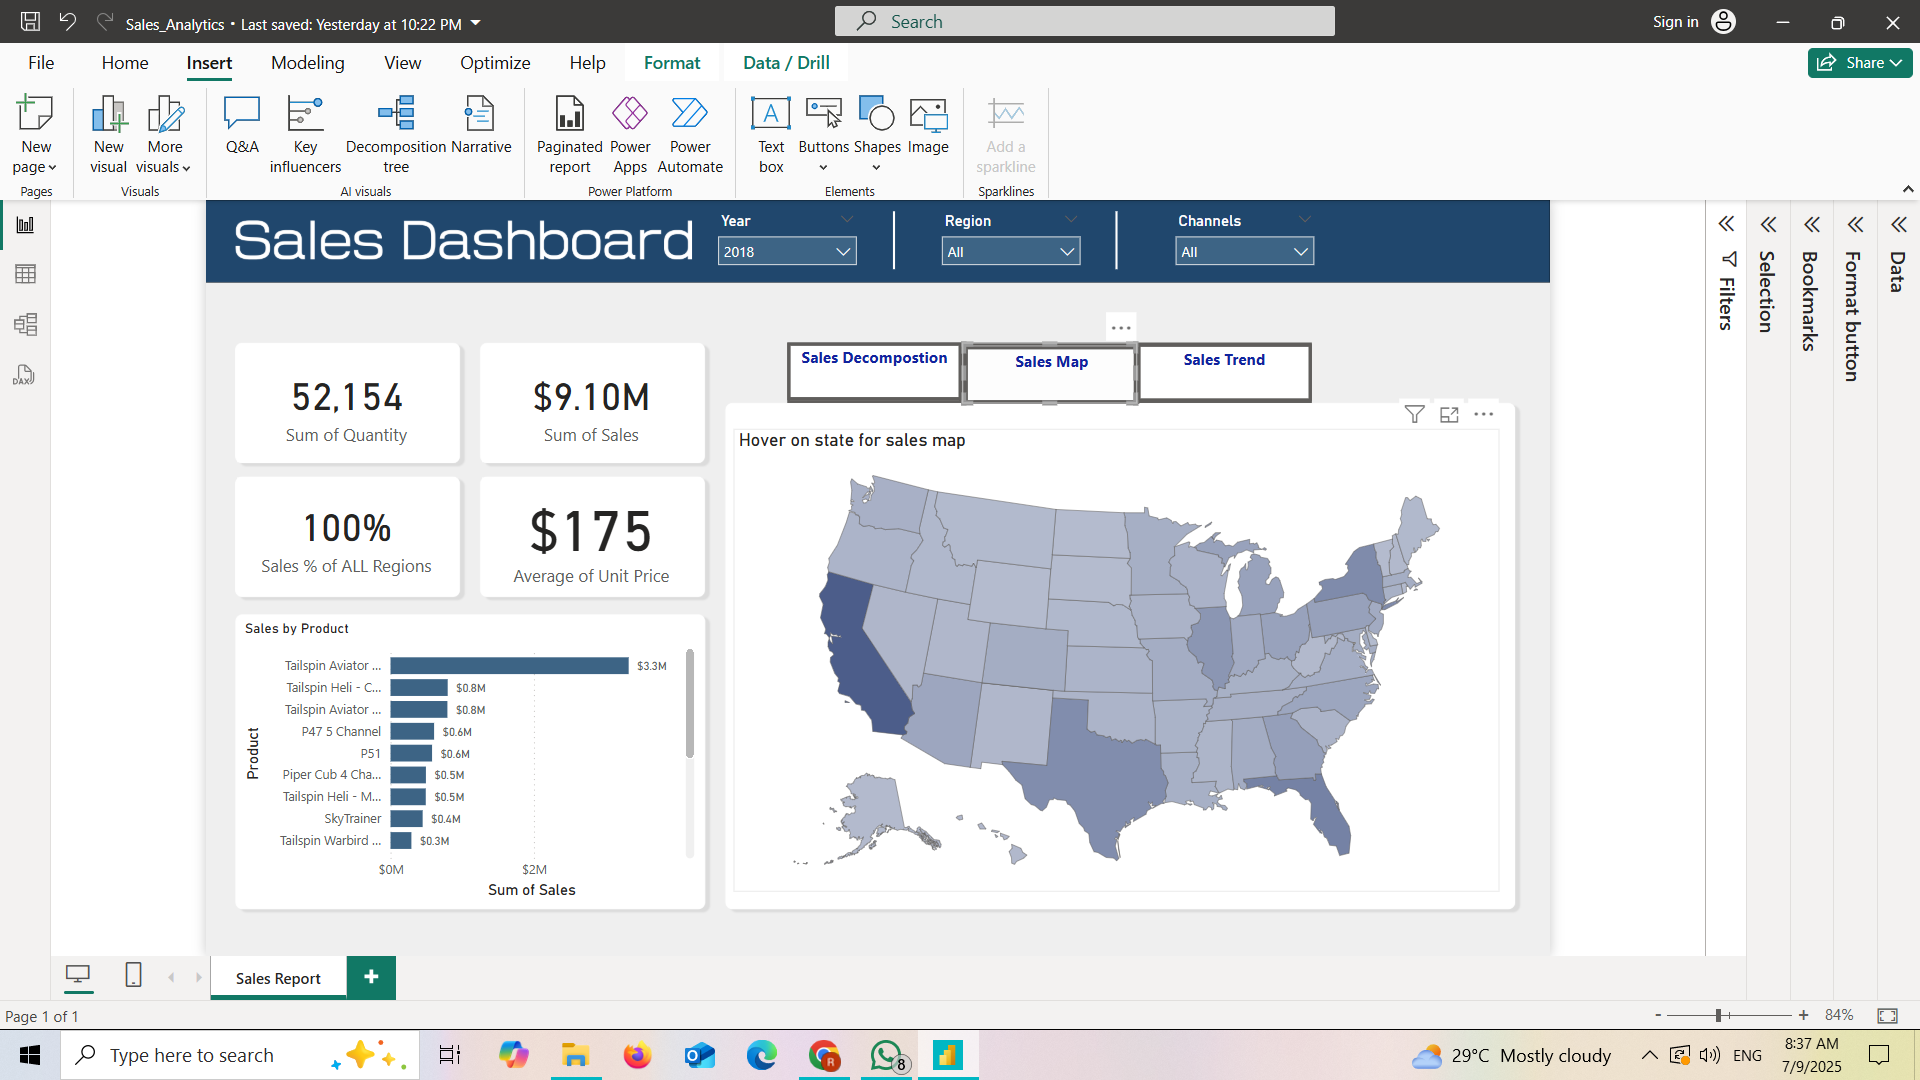

What the dashboard file says about the page in this screenshot:
{"tool":"powerbi","page":{"name":"Sales Report","canvas":[1280,720],"ordinal":0},"visuals":[{"type":"card","title":"Card Quantity","fields":{"Values":["Sum(Sales.Quantity)"]},"box":[29.5,138.7,208.1,110.5],"z":0},{"type":"card","title":"Card region","fields":{"Values":["Sales.Sales % of ALL Regions"]},"box":[29.5,264.6,208.1,110.5],"z":1000},{"type":"card","title":" Card sales","fields":{"Values":["Sum(Sales.Sales)"]},"box":[263.4,138.7,208.1,110.5],"z":2000},{"type":"card","title":"Card Unit price","fields":{"Values":["Avg(Sales.Unit Price)"]},"box":[263.4,264.6,208.1,110.5],"z":3000},{"type":"barChart","title":"Sales by Product","fields":{"Category":["Product.Product"],"Y":["Sum(Sales.Sales)"]},"box":[32,400,438,270],"z":4000},{"type":"slicer","fields":{"Values":["Date.Year"]},"box":[477.8,5.6,152,61],"z":5000},{"type":"slicer","fields":{"Values":["Region.Region"]},"box":[690,5.6,152.2,61.1],"z":6000},{"type":"slicer","fields":{"Values":["Product.Channels"]},"box":[913.3,5.6,152.2,61.1],"z":7000},{"type":"shape","box":[620,11.1,70,55.6],"z":8000},{"type":"shape","box":[832.2,11.1,70,55.6],"z":9000},{"type":"actionButton","title":"btn active:Decomposition","box":[553.8,135.9,166.3,54.9],"z":10000},{"type":"actionButton","title":"btn active:Trend","box":[886.4,137.4,166.3,54.9],"z":11000},{"type":"actionButton","title":" btn active:map","box":[723,138.8,166.3,54.9],"z":12000},{"type":"shapeMap","title":"Hover on state for sales map","fields":{"Category":["State.State Code"],"Value":["Sum(Sales.Sales)"]},"box":[502.3,217.4,730.2,440.7],"z":14000},{"type":"actionButton","box":[553.8,135.9,166.3,57.8],"z":17001},{"type":"actionButton","box":[720.1,135.9,166.3,57.8],"z":17002},{"type":"actionButton","box":[886.4,135.9,166.3,57.8],"z":17003}]}

Visuals, with their boxes on the page's 1280x720 design canvas (x1, y1, x2, y2). These are canvas units, not pixel positions in the 1920x1080 screenshot, which may show the page scaled, cropped or inside an application window:
"Card Quantity" card: box=[30, 139, 238, 249]
"Card region" card: box=[30, 265, 238, 375]
" Card sales" card: box=[263, 139, 472, 249]
"Card Unit price" card: box=[263, 265, 472, 375]
"Sales by Product" barChart: box=[32, 400, 470, 670]
slicer - Date.Year: box=[478, 6, 630, 67]
slicer - Region.Region: box=[690, 6, 842, 67]
slicer - Product.Channels: box=[913, 6, 1066, 67]
shape: box=[620, 11, 690, 67]
shape: box=[832, 11, 902, 67]
"btn active:Decomposition" actionButton: box=[554, 136, 720, 191]
"btn active:Trend" actionButton: box=[886, 137, 1053, 192]
" btn active:map" actionButton: box=[723, 139, 889, 194]
"Hover on state for sales map" shapeMap: box=[502, 217, 1232, 658]
actionButton: box=[554, 136, 720, 194]
actionButton: box=[720, 136, 886, 194]
actionButton: box=[886, 136, 1053, 194]
